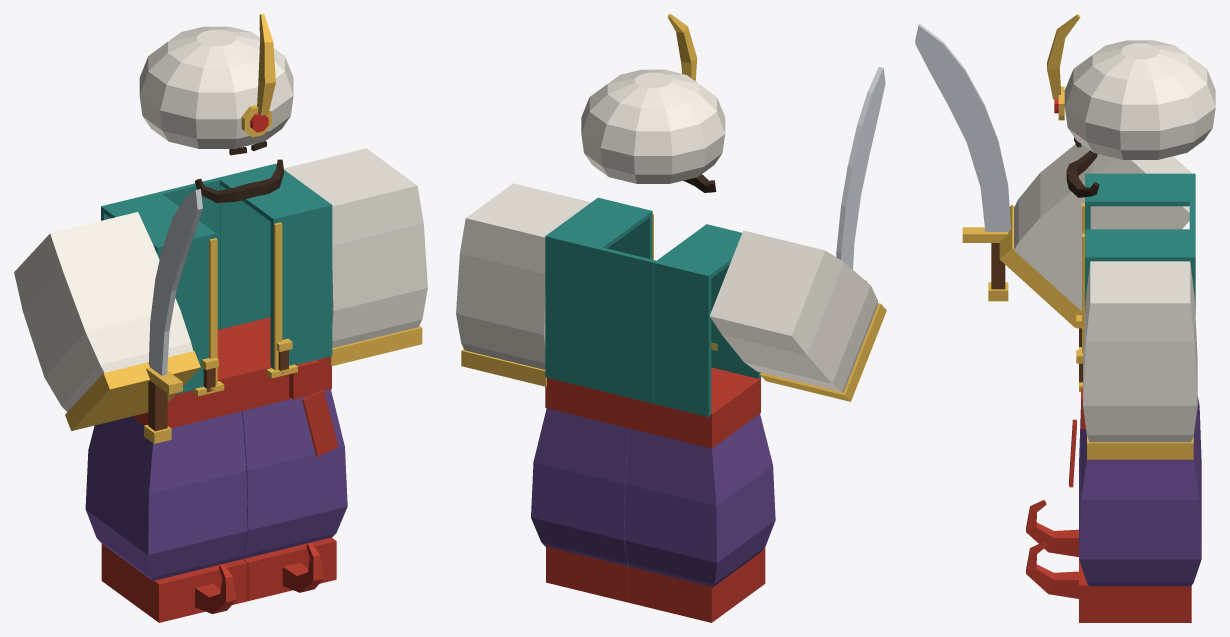
The model's file is w4_keeper_armsdealer.fbx.
The picture shows the model from 3 angles, left to right: view 1: azimuth 30°, elevation 25°; view 2: azimuth 150°, elevation 25°; view 3: azimuth 270°, elevation 25°; orthographic projection. The views are drawn at different scales.
Parts seen in each view (by area): view 1: ArmsDealer.Trousers, ArmsDealer.Vest, ArmsDealer.SleeveR, ArmsDealer.SleeveL, ArmsDealer.Turban, ArmsDealer.Slippers, ArmsDealer.Sash, ArmsDealer.CuffR, ArmsDealer.Blade, ArmsDealer.VestTrim, ArmsDealer.CuffL, ArmsDealer.Plume (+4 smaller); view 2: ArmsDealer.Trousers, ArmsDealer.Vest, ArmsDealer.SleeveR, ArmsDealer.SleeveL, ArmsDealer.Turban, ArmsDealer.Sash, ArmsDealer.Slippers, ArmsDealer.Blade, ArmsDealer.CuffR, ArmsDealer.CuffL, ArmsDealer.Plume; view 3: ArmsDealer.SleeveL, ArmsDealer.Trousers, ArmsDealer.Turban, ArmsDealer.SleeveR, ArmsDealer.Vest, ArmsDealer.Slippers, ArmsDealer.Blade, ArmsDealer.CuffR, ArmsDealer.CuffL, ArmsDealer.Plume, ArmsDealer.Hilt, ArmsDealer.Moustache (+3 smaller).
Part boxes in pixels (box(x1,y1,x2,y2)): ArmsDealer.Trousers: box(85, 389, 347, 581); ArmsDealer.Vest: box(101, 163, 332, 394); ArmsDealer.SleeveR: box(14, 212, 193, 411); ArmsDealer.SleeveL: box(284, 148, 427, 348); ArmsDealer.Turban: box(139, 26, 293, 148); ArmsDealer.Slippers: box(101, 537, 336, 622); ArmsDealer.Sash: box(132, 317, 338, 456); ArmsDealer.CuffR: box(65, 351, 200, 430); ArmsDealer.Blade: box(148, 189, 202, 375); ArmsDealer.VestTrim: box(209, 222, 282, 384); ArmsDealer.CuffL: box(330, 325, 422, 366); ArmsDealer.Plume: box(257, 14, 275, 115); ArmsDealer.Trousers: box(531, 408, 775, 587); ArmsDealer.Vest: box(545, 197, 761, 416); ArmsDealer.SleeveR: box(710, 230, 877, 392); ArmsDealer.SleeveL: box(456, 183, 590, 369); ArmsDealer.Turban: box(581, 69, 725, 183); ArmsDealer.Sash: box(545, 367, 760, 448); ArmsDealer.Slippers: box(546, 546, 765, 622); ArmsDealer.Blade: box(836, 67, 885, 269); ArmsDealer.CuffR: box(760, 303, 886, 401); ArmsDealer.CuffL: box(461, 349, 546, 386); ArmsDealer.Plume: box(667, 14, 697, 80); ArmsDealer.SleeveL: box(1083, 261, 1197, 442); ArmsDealer.Trousers: box(1079, 396, 1201, 586); ArmsDealer.Turban: box(1064, 40, 1215, 159); ArmsDealer.SleeveR: box(1014, 144, 1191, 312); ArmsDealer.Vest: box(1085, 173, 1195, 313); ArmsDealer.Slippers: box(1026, 500, 1191, 622); ArmsDealer.Blade: box(915, 23, 1010, 231); ArmsDealer.CuffR: box(999, 205, 1081, 327); ArmsDealer.CuffL: box(1087, 436, 1193, 459); ArmsDealer.Plume: box(1047, 14, 1080, 99); ArmsDealer.Hilt: box(962, 227, 1008, 301); ArmsDealer.Moustache: box(1066, 150, 1099, 197).
Size of the model in its own units: 4.16 by 6.38 by 3.04.
